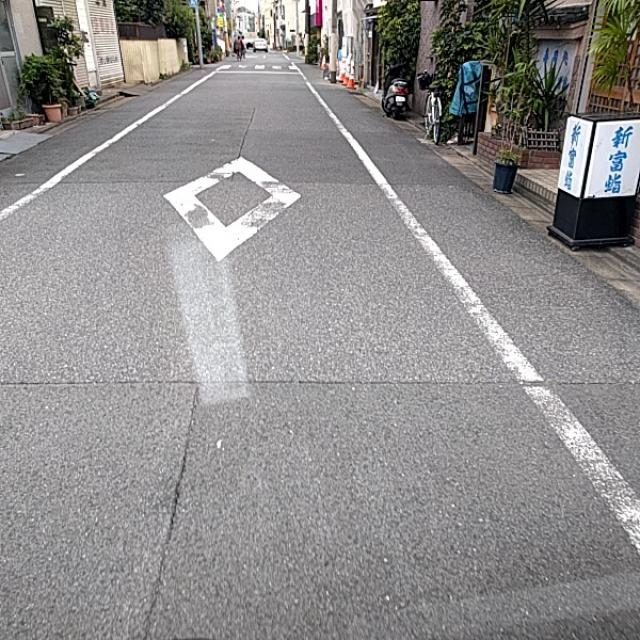pothole: (140, 340, 221, 470)
